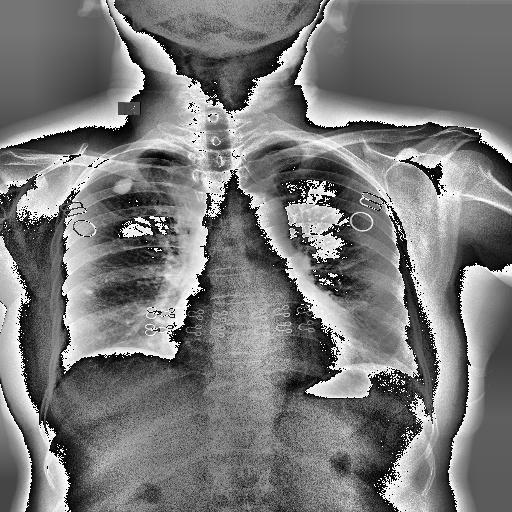0- Aortic enlargement: (226, 192, 290, 238), (236, 192, 290, 242), (232, 193, 288, 240)
11- Pleural thickening: (122, 146, 187, 159)
2- Calcification: (112, 178, 132, 194)
3- Cardiomegaly: (162, 292, 365, 366), (163, 314, 359, 378), (163, 316, 354, 370)
8- Nodule-Mass: (112, 176, 134, 194), (112, 177, 132, 195), (84, 289, 94, 294)
